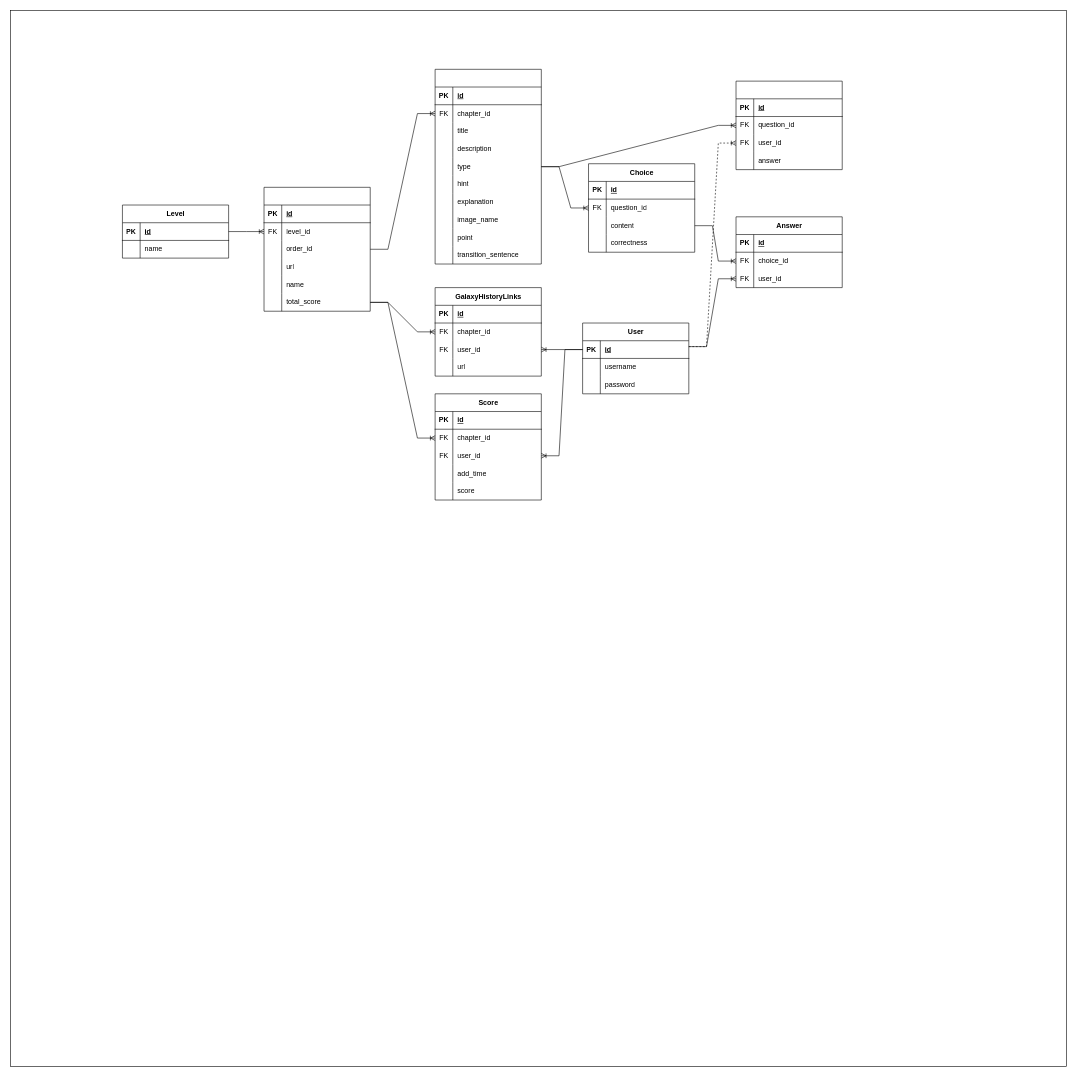
Image size: 1077x1077. Some labels were removed from this diagram. The shapes that lost their labels are listed below. From the top down, each one's box as (x1, y1, x2, y2) in pixels, then its label:
(735, 81, 842, 170): OpenAnswer
(435, 69, 541, 264): Question
(263, 187, 370, 311): Chapter
